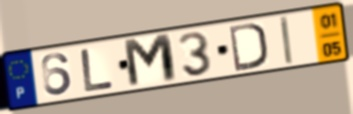3: (178, 31, 214, 78)
6: (39, 52, 74, 98)
D: (227, 20, 269, 73)
I: (277, 14, 296, 67)
L: (78, 47, 117, 94)
M: (121, 31, 181, 91)
